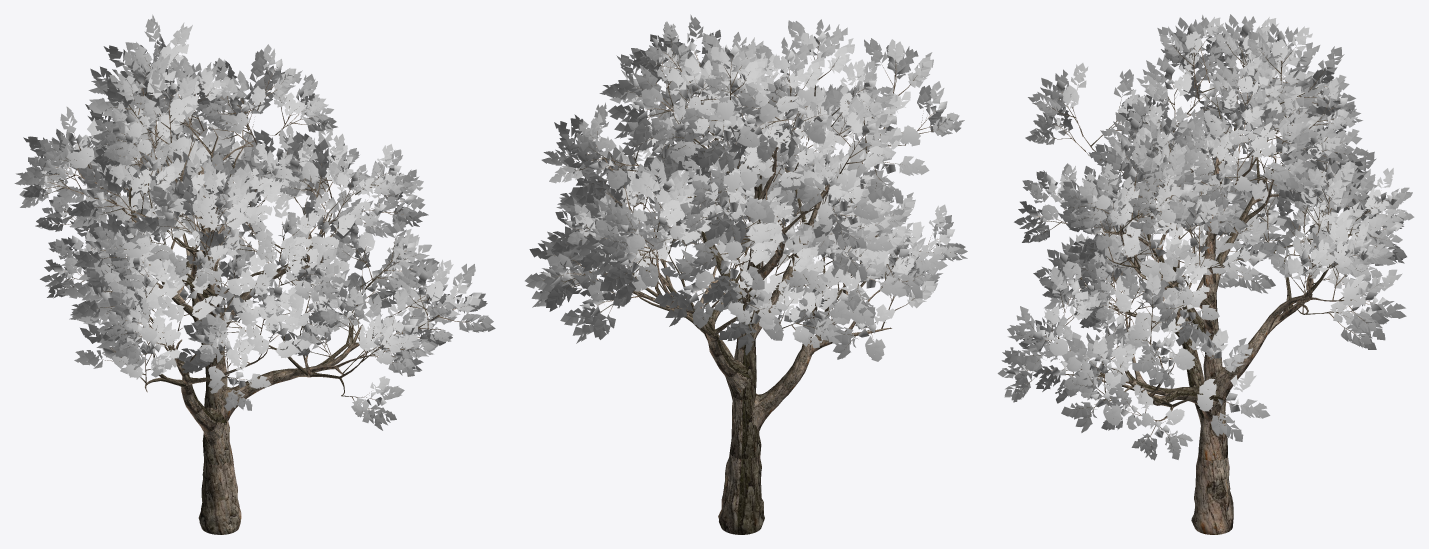
File: tree(sih).fbx
3 renders of one model, left to right at view 1: azimuth 30°, elevation 25°; view 2: azimuth 150°, elevation 25°; view 3: azimuth 270°, elevation 25°, orthographic. The views are drawn at different scales.
Parts seen in each view (by area): view 1: tree; view 2: tree; view 3: tree.
Part boxes in pixels (x1,y1,x2,y2): tree: (14,14,495,534); tree: (525,14,967,534); tree: (997,14,1414,534).
Size of the model in its own units: 1938 by 2321 by 1793.
